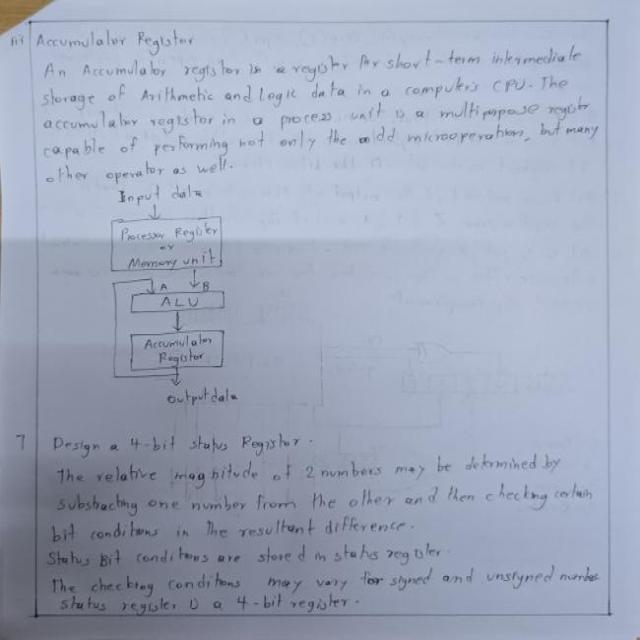Figure Detection - v3 Dataset Version2: (91, 180, 263, 414)
